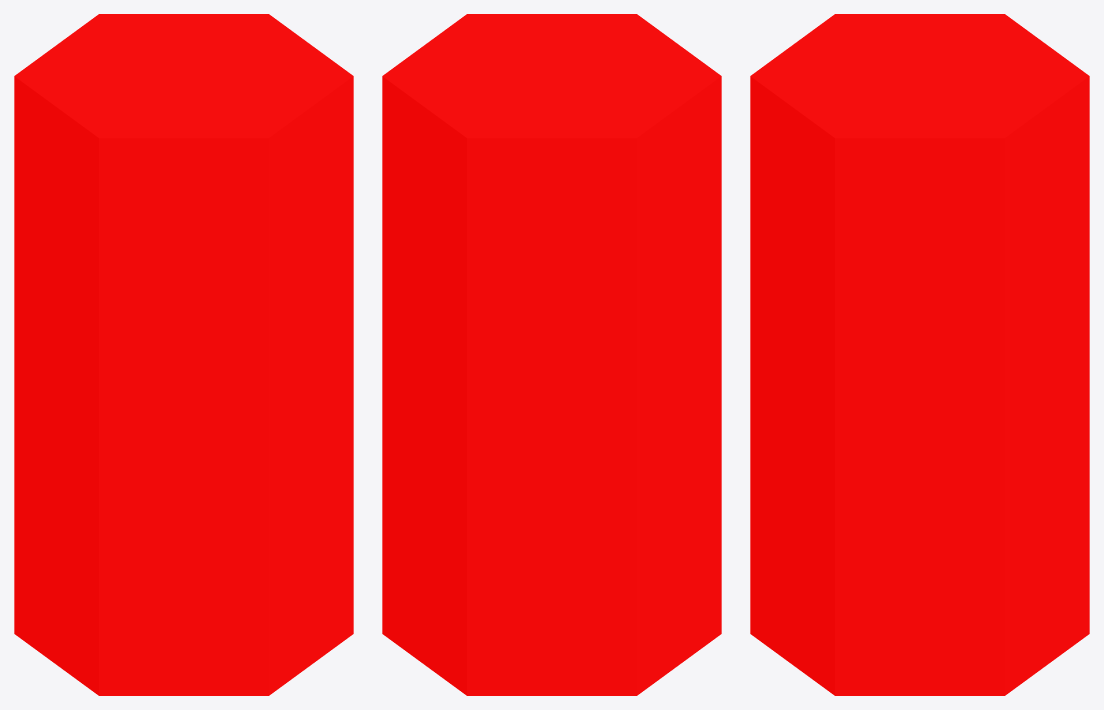
File: Items.fbx_Water_Bottle.fbx
3 renders of one model, left to right at view 1: azimuth 30°, elevation 25°; view 2: azimuth 150°, elevation 25°; view 3: azimuth 270°, elevation 25°, orthographic.
Parts seen in each view (by area): view 1: IN.001; view 2: IN.001; view 3: IN.001.
Part boxes in pixels (bbox=[...]): IN.001: bbox=[14, 14, 353, 695]; IN.001: bbox=[382, 14, 721, 695]; IN.001: bbox=[750, 14, 1089, 695].
Size of the model in its own units: 13.86 by 29 by 16.
